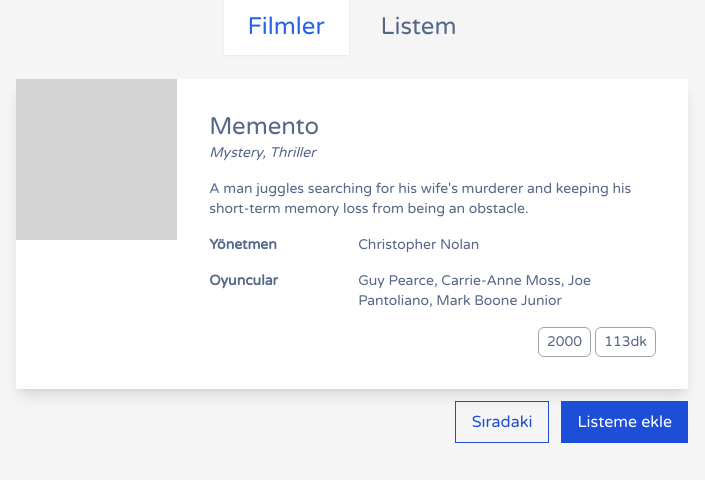
Test case: Sıradaki butonu bir sonraki filmi gösteriyor
Click the button "Sıradaki" at [502, 422], box [455,401,549,443]
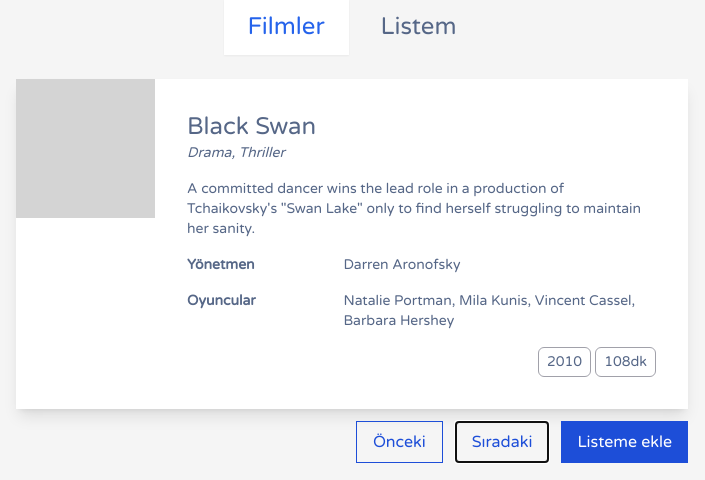
Expected: the heading "Black Swan" is shown, [187,112,316,141]
